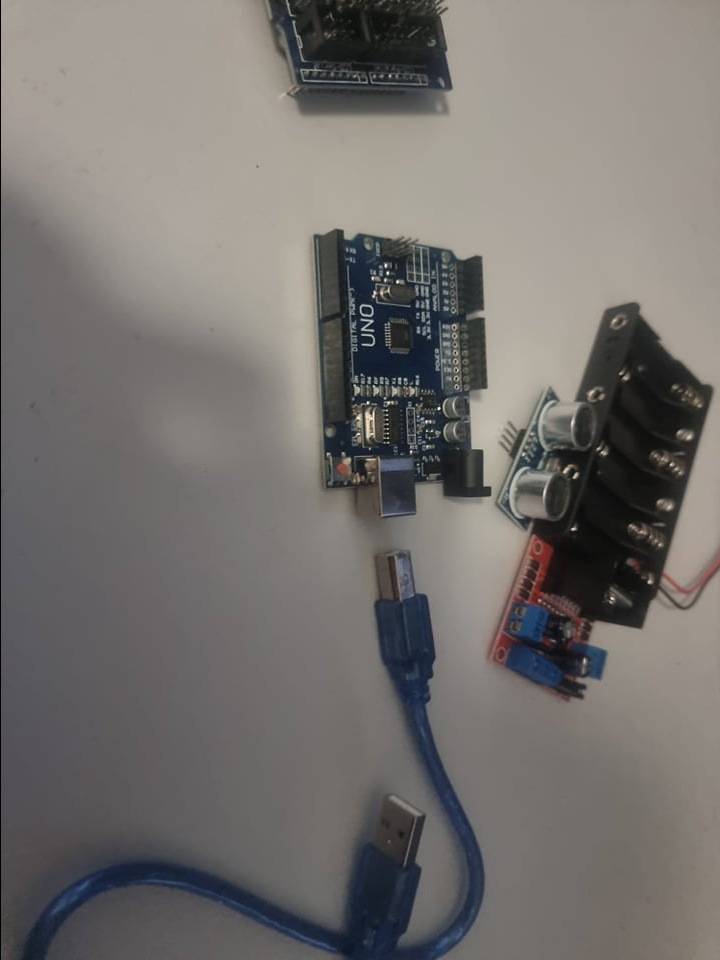5V EXPANSION: (272, 1, 454, 93)
BATTERY BOX: (569, 298, 719, 544)
MOTOR: (483, 535, 658, 706)
SENSOR: (498, 381, 596, 527)
UNO R3: (307, 221, 496, 525)
